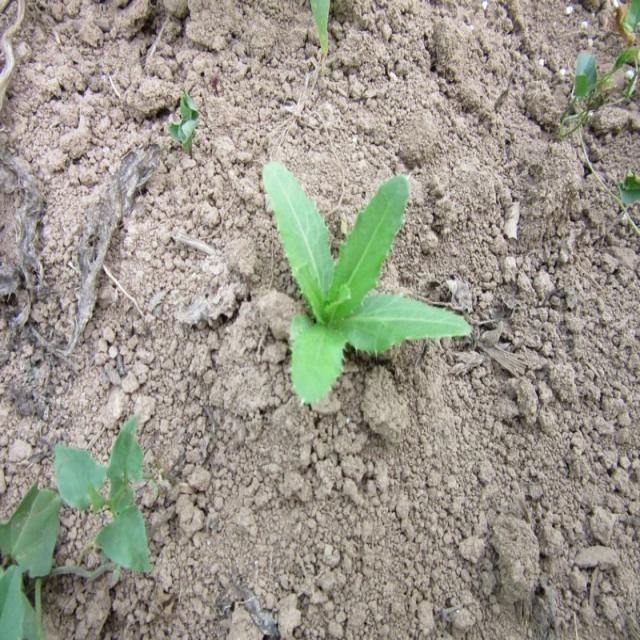cs: (260, 150, 476, 411)
